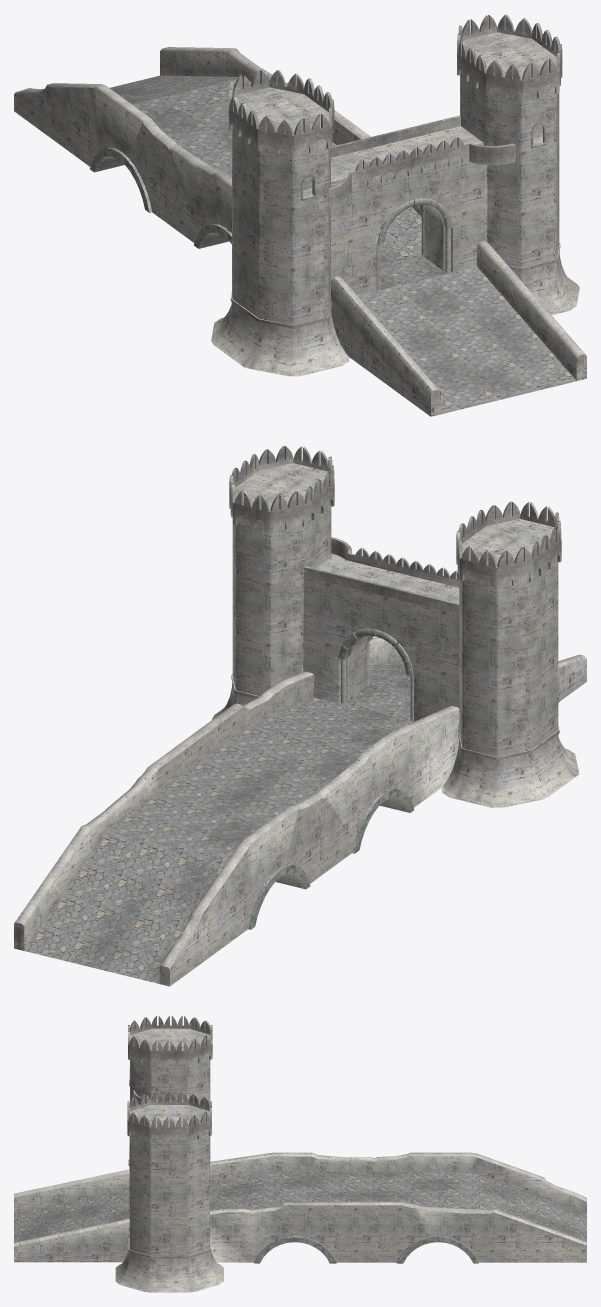
Rendered from Niflheim_Medieval_Bridge.glb.
3 views of the same model, one above another, from view 1: azimuth 30°, elevation 25°; view 2: azimuth 150°, elevation 25°; view 3: azimuth 270°, elevation 25° (orthographic). The views are drawn at different scales.
Parts seen in each view (by area): view 1: Sketchup (×4); view 2: Sketchup (×4); view 3: Sketchup (×4).
Part boxes in pixels (bbox=[...]): Sketchup (×4): bbox=[14, 14, 586, 416]; Sketchup (×4): bbox=[14, 446, 586, 986]; Sketchup (×4): bbox=[14, 1016, 586, 1292].
Size of the model in its own units: 0.9274 by 0.6544 by 2.
Materials: 4 (4 with a texture image).
